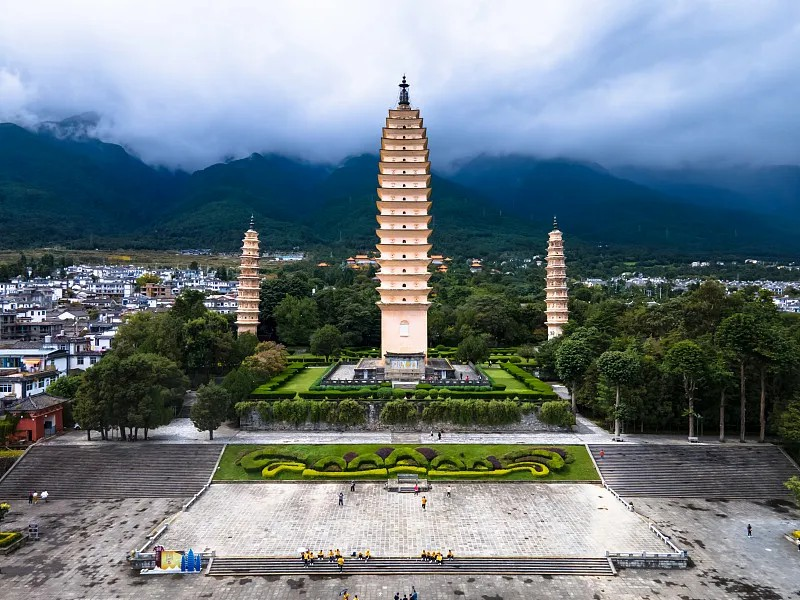ThreePagoda: (375, 72, 432, 363)
